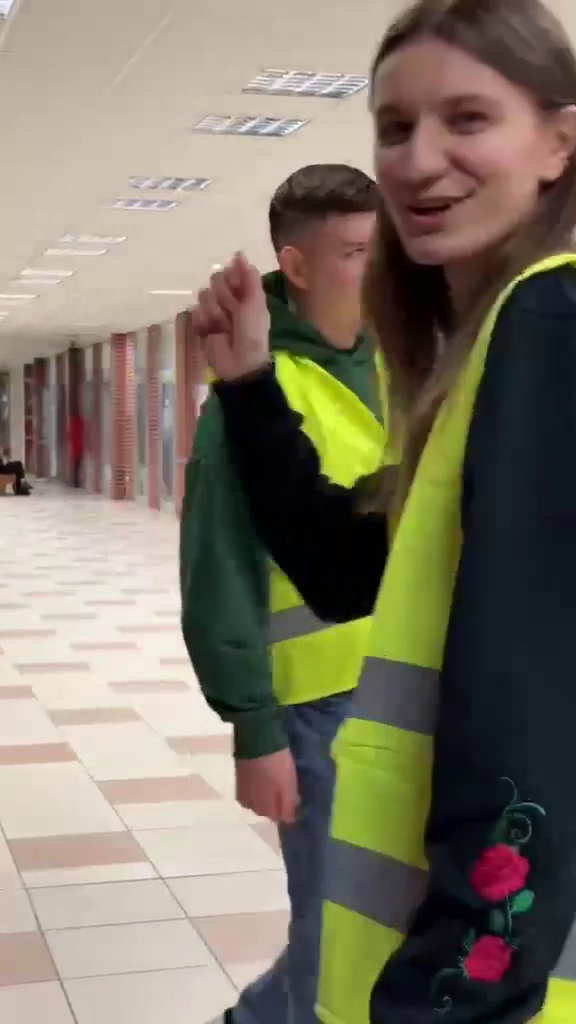vest: (204, 23, 573, 982)
